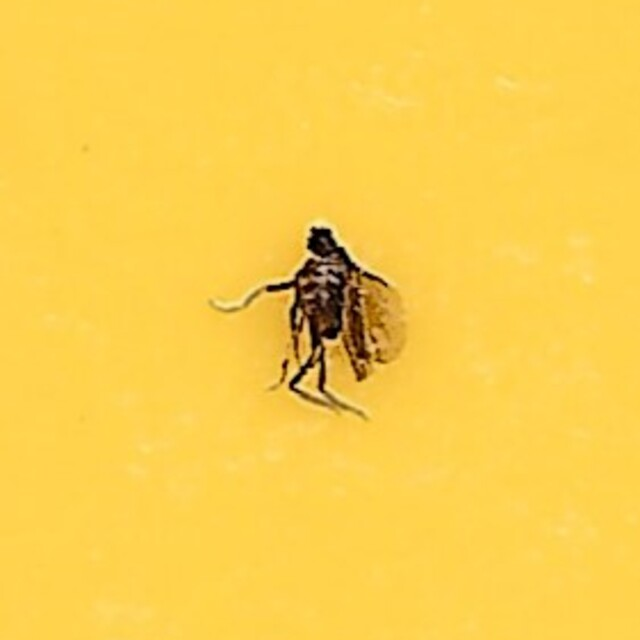Brachycera: (228, 225, 412, 415)
